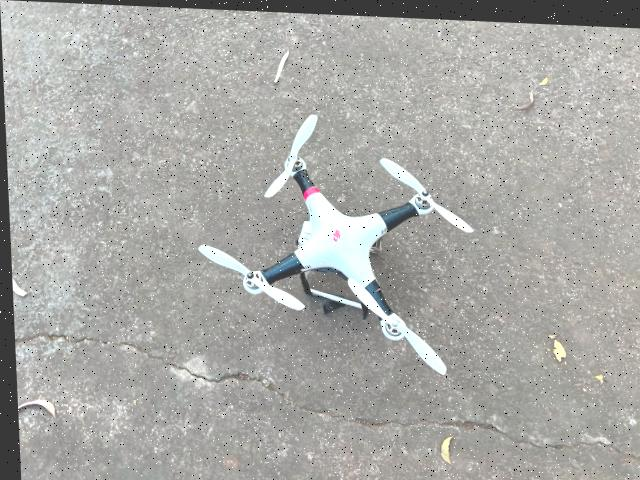drone: (158, 65, 538, 421)
